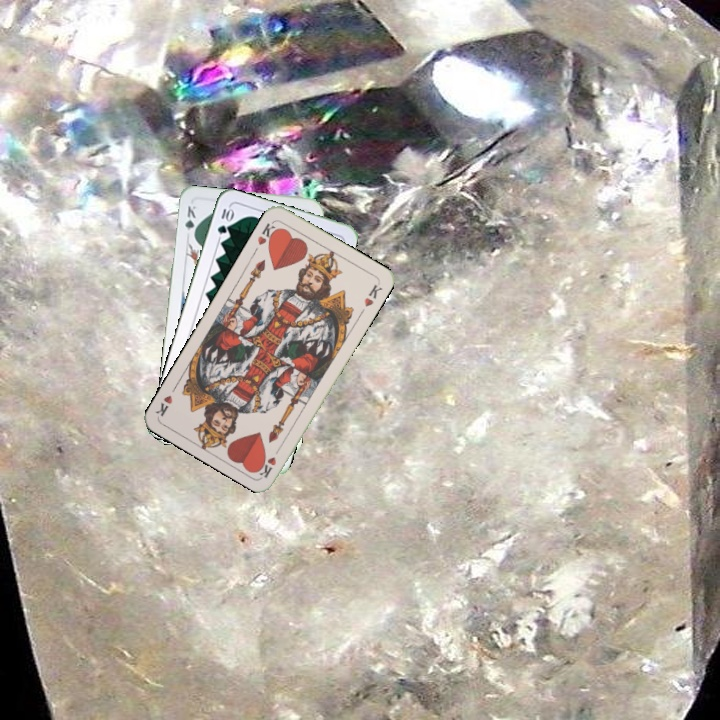G10: (213, 203, 236, 237)
GK: (181, 202, 198, 241)
HK: (255, 442, 284, 480), (253, 218, 281, 249)
